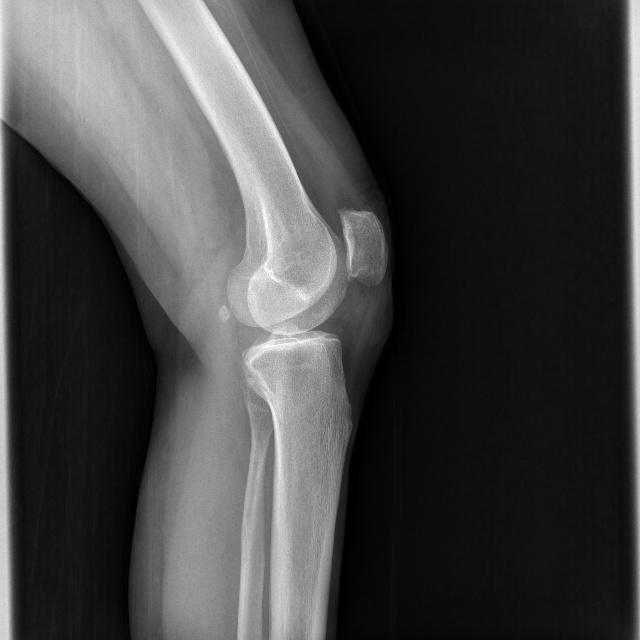Knee: (219, 205, 389, 406)
